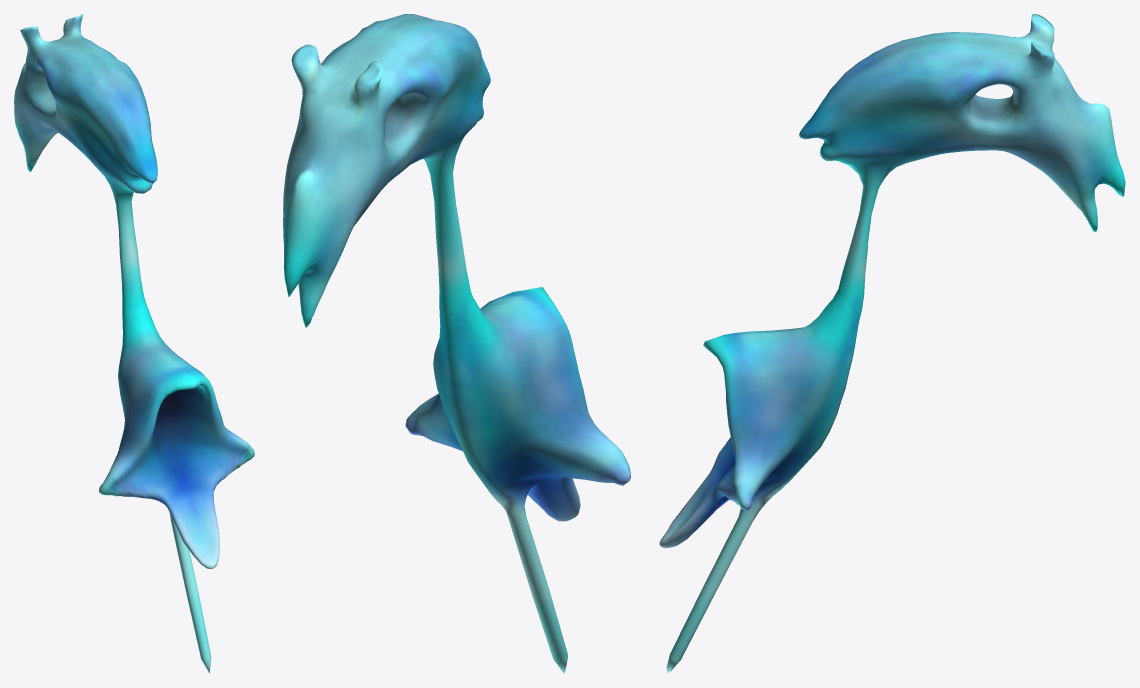
The model's file is vents.obj.
3 renders of one model, left to right at view 1: azimuth 30°, elevation 25°; view 2: azimuth 150°, elevation 25°; view 3: azimuth 270°, elevation 25°, orthographic. The views are drawn at different scales.
Visible parts, largest first — view 1: Group35078; view 2: Group35078; view 3: Group35078.
Boxes of the visible parts, x1,y1,x2,y2 form: Group35078: (14,14,254,673); Group35078: (283,14,630,673); Group35078: (659,14,1125,673).
Size of the model in its own units: 255 by 853 by 559.
Materials: 1 (1 with a texture image).
